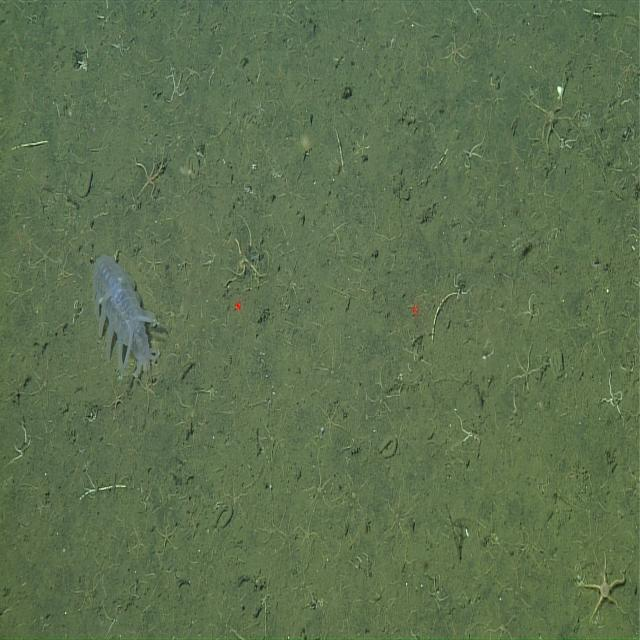Brittle Star: (571, 539, 634, 633), (523, 88, 582, 156), (224, 232, 264, 294), (506, 338, 546, 398), (130, 146, 171, 204), (378, 487, 418, 544), (484, 605, 520, 640), (140, 242, 168, 283)
